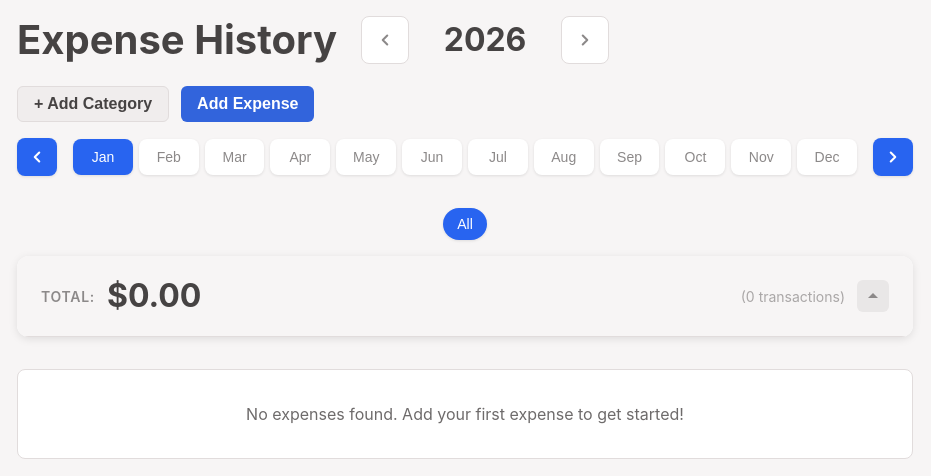
Test case: HistoryPage month navigation › rolls the year back when navigating to the previous month from January
Expected: the text "2026" is shown, [444,20,526,59]
Step 1. Click the button titled "Previous month" → (37, 157), box [17,138,57,176]
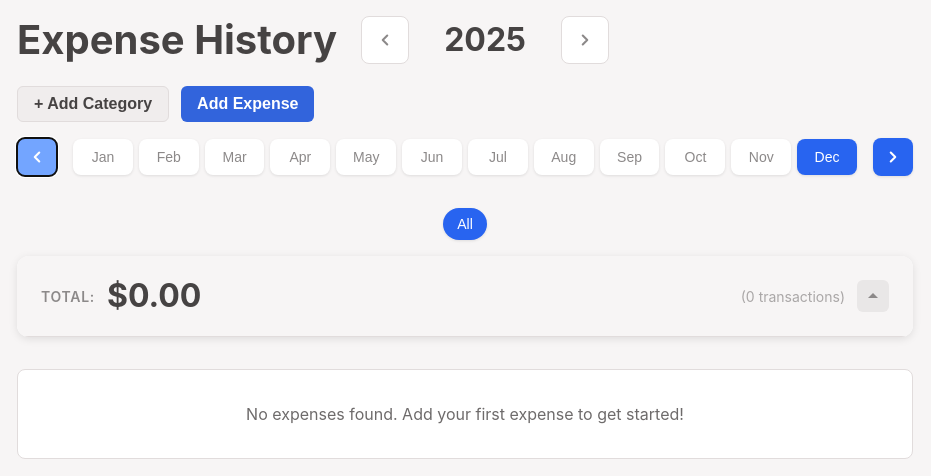
Expected: the text "2025" is shown, [444,20,526,59]
